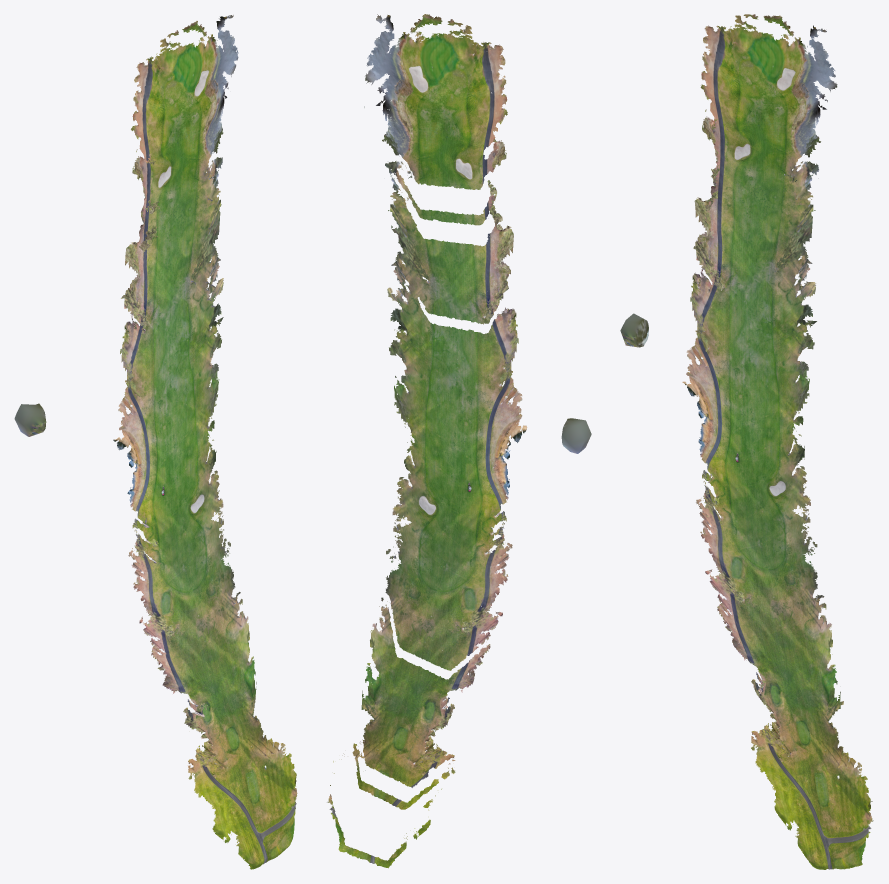
3 views of the same model, side by side, from view 1: azimuth 30°, elevation 25°; view 2: azimuth 150°, elevation 25°; view 3: azimuth 330°, elevation 25° (orthographic). The views are drawn at different scales.
Bounding box in the file's own units: 175 × 532 × 36.76.
Materials: 7 (7 with a texture image).
